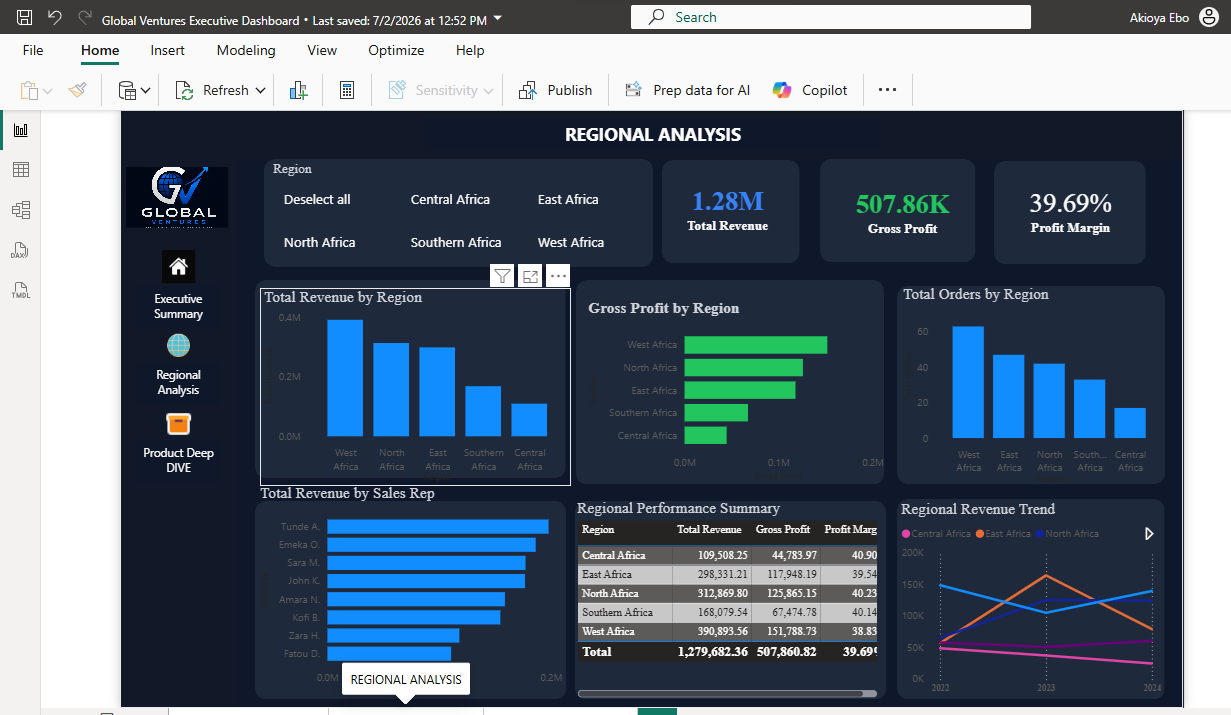

The dashboard page shown, as its layout file describes it:
{"tool":"powerbi","page":{"name":"REGIONAL ANALYSIS","canvas":[1280,720],"ordinal":1},"visuals":[{"type":"shape","box":[0,0,1280,58.8],"z":0,"group":"g10"},{"type":"shape","box":[0,0,140,720],"z":0,"group":"g1"},{"type":"shape","box":[652.9,60,165.7,124.3],"z":0,"group":"g11"},{"type":"textbox","box":[366.7,10,548.9,37.8],"z":1000,"group":"g10"},{"type":"shape","box":[842.9,58.6,187.1,124.3],"z":1000,"group":"g11"},{"type":"shape","box":[1052.9,61.4,182.9,124.3],"z":2000,"group":"g11"},{"type":"group","id":"g1","title":"Group 1","box":[0,0,140,720],"z":3000,"group":"g11"},{"type":"image","box":[7.8,68.9,123.3,73.3],"z":3000,"group":"g1"},{"type":"group","id":"g2","title":"Group 2","box":[173.3,58.9,467.8,130],"z":4000,"group":"g11"},{"type":"image","box":[50,168.9,40,40],"z":4000,"group":"g1"},{"type":"group","id":"g3","title":"Group 3","box":[648.6,58.6,587.1,127.1],"z":5000,"group":"g11"},{"type":"textbox","box":[17.8,211.3,104.4,51.1],"z":5000,"group":"g1"},{"type":"shape","box":[935.7,211.4,322.9,238.6],"z":5000,"group":"g6"},{"type":"group","id":"g4","title":"Group 4","box":[162.9,204.3,380.2,248.2],"z":6000,"group":"g11"},{"type":"shape","box":[162.9,204.3,374.3,238.6],"z":6000,"group":"g4"},{"type":"image","box":[50,264.9,40,36.7],"z":6000,"group":"g1"},{"type":"group","id":"g5","title":"Group 5","box":[548.6,204.3,375.7,247.1],"z":7000,"group":"g11"},{"type":"shape","box":[548.6,204.3,370.8,246.3],"z":7000,"group":"g5"},{"type":"textbox","box":[17.8,304,104.4,52.2],"z":7000,"group":"g1"},{"type":"group","id":"g6","title":"Group 6","box":[935.7,210.8,324.7,244.3],"z":8000,"group":"g11"},{"type":"image","box":[50,358.7,40,36.7],"z":8000,"group":"g1"},{"type":"shape","box":[162.5,471.2,375,238.8],"z":8000,"group":"g7"},{"type":"textbox","box":[17.8,397.8,104.4,52.2],"z":9000,"group":"g1"},{"type":"group","id":"g7","title":"Group 7","box":[162.5,450.8,375,260],"z":9000,"group":"g11"},{"type":"shape","box":[548.7,471.2,375,238.8],"z":9000,"group":"g8"},{"type":"group","id":"g8","title":"Group 8","box":[545.9,468.3,377.8,244.3],"z":10000,"group":"g11"},{"type":"shape","box":[936,468.6,322.3,241.5],"z":10000,"group":"g9"},{"type":"clusteredColumnChart","fields":{"Category":["DIMREGION.Region"],"Y":["My Measures.Total Revenue"]},"box":[168.8,213.9,374.3,238.6],"z":11000,"group":"g4"},{"type":"group","id":"g9","title":"Group 9","box":[935.7,468.6,322.9,242.9],"z":11000,"group":"g11"},{"type":"group","id":"g10","title":"Group 10","box":[0,0,1280,58.8],"z":12000,"group":"g11"},{"type":"clusteredBarChart","fields":{"Category":["DIMREGION.Region"],"Y":["My Measures.Gross_Profit_USD"]},"box":[557.8,227.3,366.5,224.2],"z":12000,"group":"g5"},{"type":"group","id":"g11","title":"Group 11","box":[0,0,1280,720],"z":12001},{"type":"shape","box":[173.3,58.9,468.6,130],"z":13000,"group":"g2"},{"type":"clusteredColumnChart","fields":{"Category":["DIMREGION.Region"],"Y":["My Measures.Total Orders"]},"box":[937.5,210.8,322.9,244.3],"z":13000,"group":"g6"},{"type":"barChart","title":"Total Revenue by Sales Rep","fields":{"Category":["DIMSALES.SalesRep"],"Y":["My Measures.Total Revenue"]},"box":[163.2,450.8,374.3,260],"z":14000,"group":"g7"},{"type":"tableEx","title":"Regional Performance Summary","fields":{"Values":["DIMREGION.Region","My Measures.Total Revenue","My Measures.Gross_Profit_USD","My Measures.Profit Margin"]},"box":[545.9,468.3,371.4,244.3],"z":15000,"group":"g8"},{"type":"lineChart","title":"Regional Revenue Trend","fields":{"Category":["DimDate.Date.Variation.Date Hierarchy.Year","DimDate.Date.Variation.Date Hierarchy.Quarter","DimDate.Date.Variation.Date Hierarchy.Month","DimDate.Date.Variation.Date Hierarchy.Day"],"Y":["My Measures.Total Revenue"],"Series":["DIMREGION.Region"]},"box":[935.7,469.2,322.9,242.2],"z":16000,"group":"g9"},{"type":"advancedSlicerVisual","fields":{"Values":["DIMREGION.Region"]},"box":[179,61.8,462.9,124.3],"z":17000,"group":"g2"},{"type":"cardVisual","fields":{"Data":["My Measures.Total Revenue"]},"box":[648.6,58.6,165.7,124.3],"z":24000,"group":"g3"},{"type":"cardVisual","fields":{"Data":["My Measures.Gross_Profit_USD"]},"box":[848.8,62.1,187.1,124.3],"z":26000,"group":"g3"},{"type":"cardVisual","fields":{"Data":["My Measures.Profit Margin"]},"box":[1052.9,58.6,182.9,127.1],"z":28001,"group":"g3"}]}

Visuals, with their boxes on the page's 1280x720 design canvas (x1, y1, x2, y2). These are canvas units, not pixel positions in the 1231x715 screenshot, which may show the page scaled, cropped or inside an application window:
shape: x1=0 y1=0 x2=1280 y2=59
shape: x1=0 y1=0 x2=140 y2=720
shape: x1=653 y1=60 x2=819 y2=184
textbox: x1=367 y1=10 x2=916 y2=48
shape: x1=843 y1=59 x2=1030 y2=183
shape: x1=1053 y1=61 x2=1236 y2=186
"Group 1" group: x1=0 y1=0 x2=140 y2=720
image: x1=8 y1=69 x2=131 y2=142
"Group 2" group: x1=173 y1=59 x2=641 y2=189
image: x1=50 y1=169 x2=90 y2=209
"Group 3" group: x1=649 y1=59 x2=1236 y2=186
textbox: x1=18 y1=211 x2=122 y2=262
shape: x1=936 y1=211 x2=1259 y2=450
"Group 4" group: x1=163 y1=204 x2=543 y2=452
shape: x1=163 y1=204 x2=537 y2=443
image: x1=50 y1=265 x2=90 y2=302
"Group 5" group: x1=549 y1=204 x2=924 y2=451
shape: x1=549 y1=204 x2=919 y2=451
textbox: x1=18 y1=304 x2=122 y2=356
"Group 6" group: x1=936 y1=211 x2=1260 y2=455
image: x1=50 y1=359 x2=90 y2=395
shape: x1=162 y1=471 x2=538 y2=710
textbox: x1=18 y1=398 x2=122 y2=450
"Group 7" group: x1=162 y1=451 x2=538 y2=711
shape: x1=549 y1=471 x2=924 y2=710
"Group 8" group: x1=546 y1=468 x2=924 y2=713
shape: x1=936 y1=469 x2=1258 y2=710
clusteredColumnChart - DIMREGION.Region x My Measures.Total Revenue: x1=169 y1=214 x2=543 y2=452
"Group 9" group: x1=936 y1=469 x2=1259 y2=712
"Group 10" group: x1=0 y1=0 x2=1280 y2=59
clusteredBarChart - DIMREGION.Region x My Measures.Gross_Profit_USD: x1=558 y1=227 x2=924 y2=452
"Group 11" group: x1=0 y1=0 x2=1280 y2=720
shape: x1=173 y1=59 x2=642 y2=189
clusteredColumnChart - DIMREGION.Region x My Measures.Total Orders: x1=938 y1=211 x2=1260 y2=455
"Total Revenue by Sales Rep" barChart: x1=163 y1=451 x2=538 y2=711
"Regional Performance Summary" tableEx: x1=546 y1=468 x2=917 y2=713
"Regional Revenue Trend" lineChart: x1=936 y1=469 x2=1259 y2=711
advancedSlicerVisual - DIMREGION.Region: x1=179 y1=62 x2=642 y2=186
cardVisual - My Measures.Total Revenue: x1=649 y1=59 x2=814 y2=183
cardVisual - My Measures.Gross_Profit_USD: x1=849 y1=62 x2=1036 y2=186
cardVisual - My Measures.Profit Margin: x1=1053 y1=59 x2=1236 y2=186
